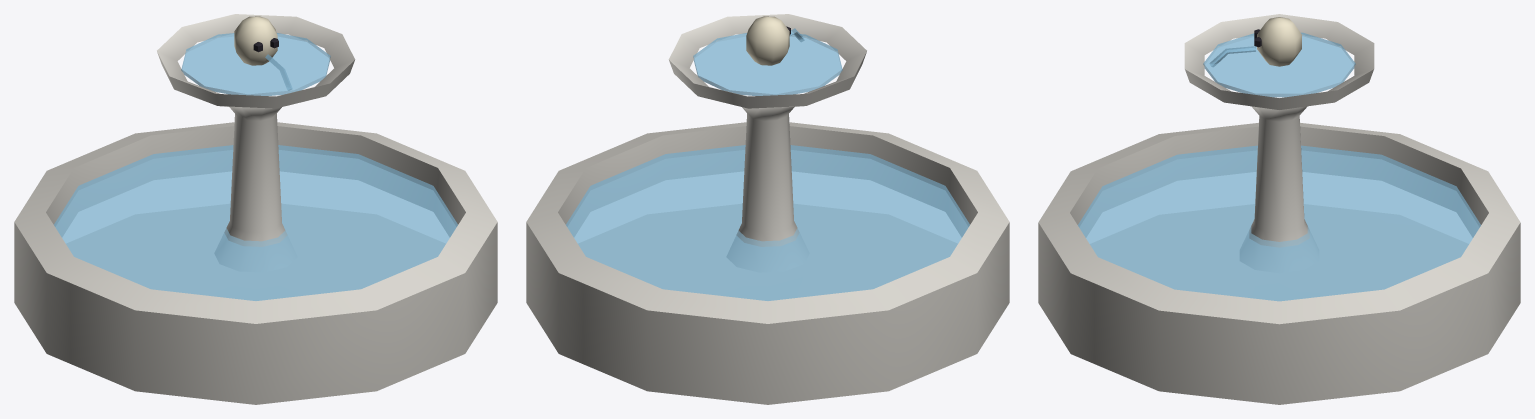
File: curb_fountain.glb
The picture shows the model from 3 angles, left to right: view 1: azimuth 30°, elevation 25°; view 2: azimuth 150°, elevation 25°; view 3: azimuth 270°, elevation 25°; orthographic projection.
Visible parts, largest first — view 1: curb_fountain, water; view 2: curb_fountain, water; view 3: curb_fountain, water.
Part boxes in pixels (x1,y1,x2,y2): curb_fountain: (14,14,497,404); water: (54,33,457,300); curb_fountain: (526,14,1009,404); water: (566,28,969,300); curb_fountain: (1038,14,1520,404); water: (1078,32,1480,301).
Bounding box in the file's own units: 1.84 × 1.2 × 1.84.
